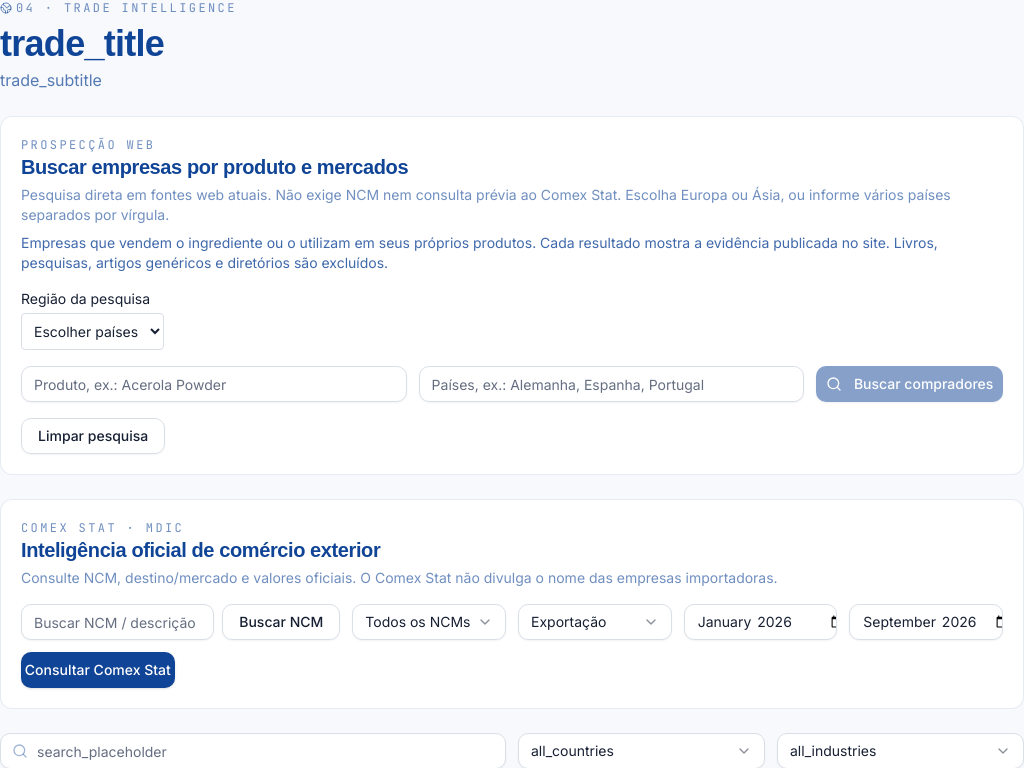
Test case: clear aborts pending single search and a late answer cannot overwrite the next search
In the field with placeholder "Produto, ex.: Acerola Powder": [214, 384] box [21,366,407,402], type "Acerola"
In the field with placeholder "Países, ex.: Alemanha, Espanha, Portugal": [611, 384] box [419,366,804,402], type "Portugal"
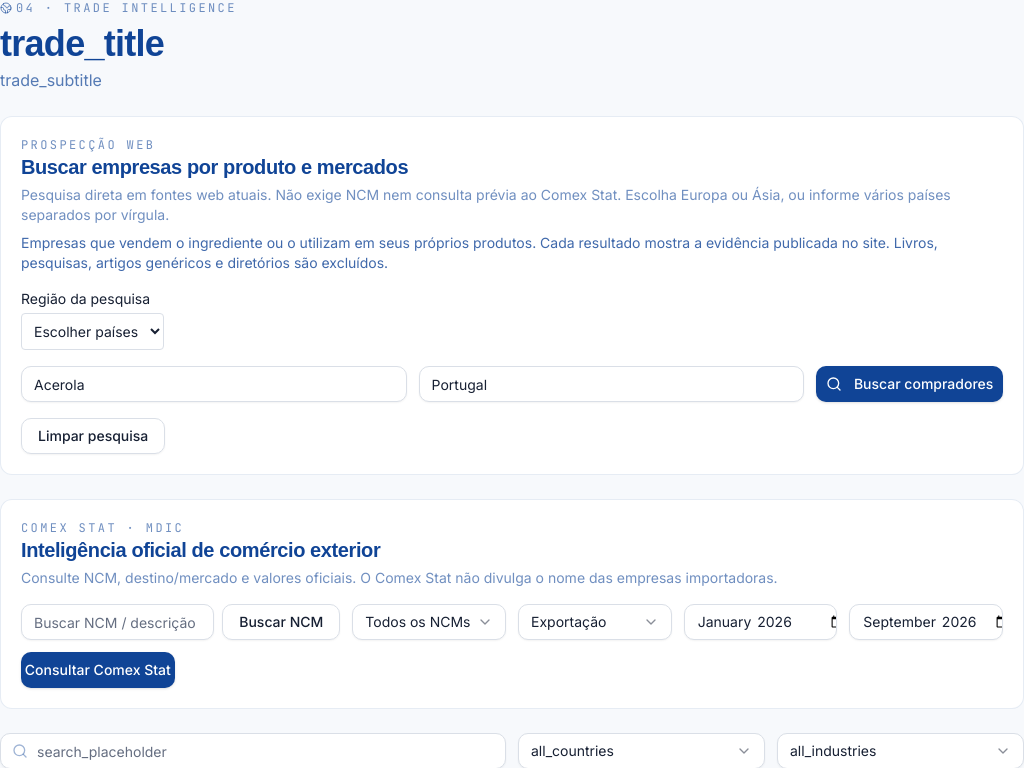
Click the button "Buscar compradores": [910, 384] box [816,366,1003,402]
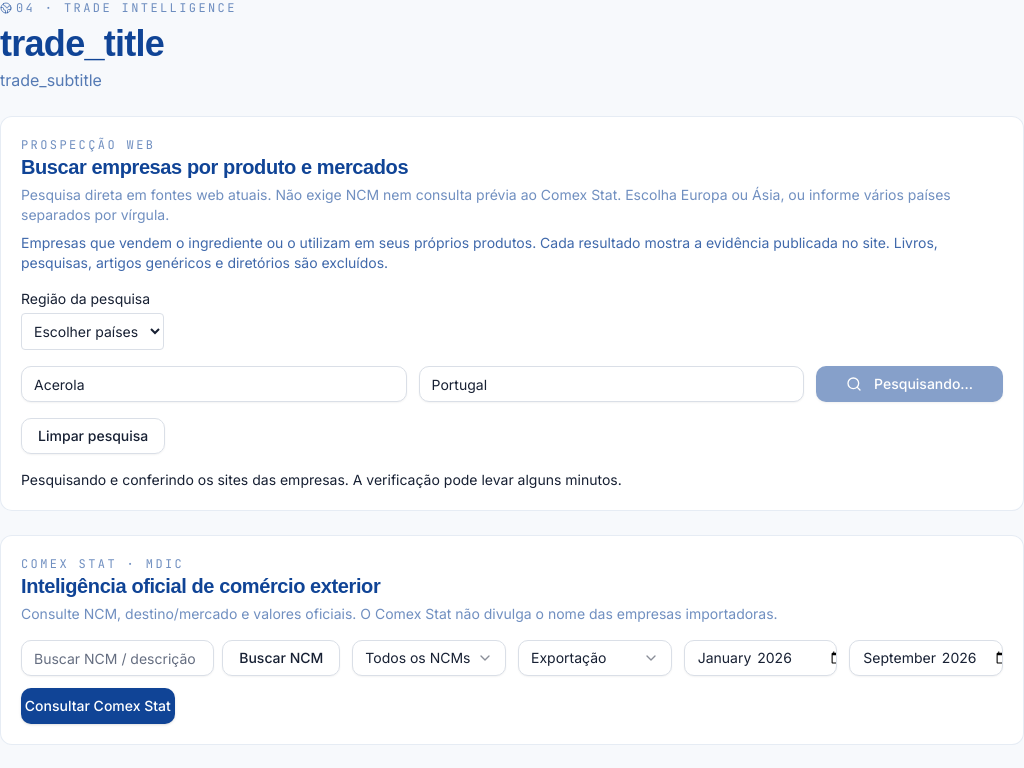
Click the button "Limpar pesquisa": [93, 436] box [21,418,165,454]
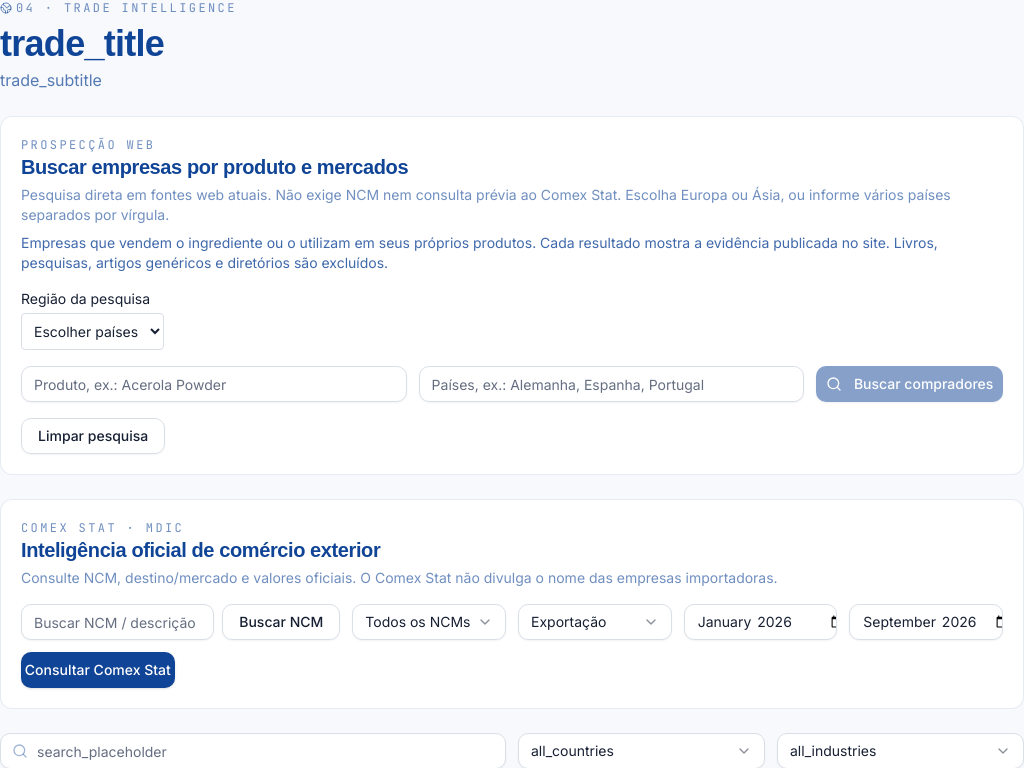
Expected: the field with placeholder "Produto, ex.: Acerola Powder" is empty
In the field with placeholder "Produto, ex.: Acerola Powder": [214, 384] box [21,366,407,402], type "Guarana"
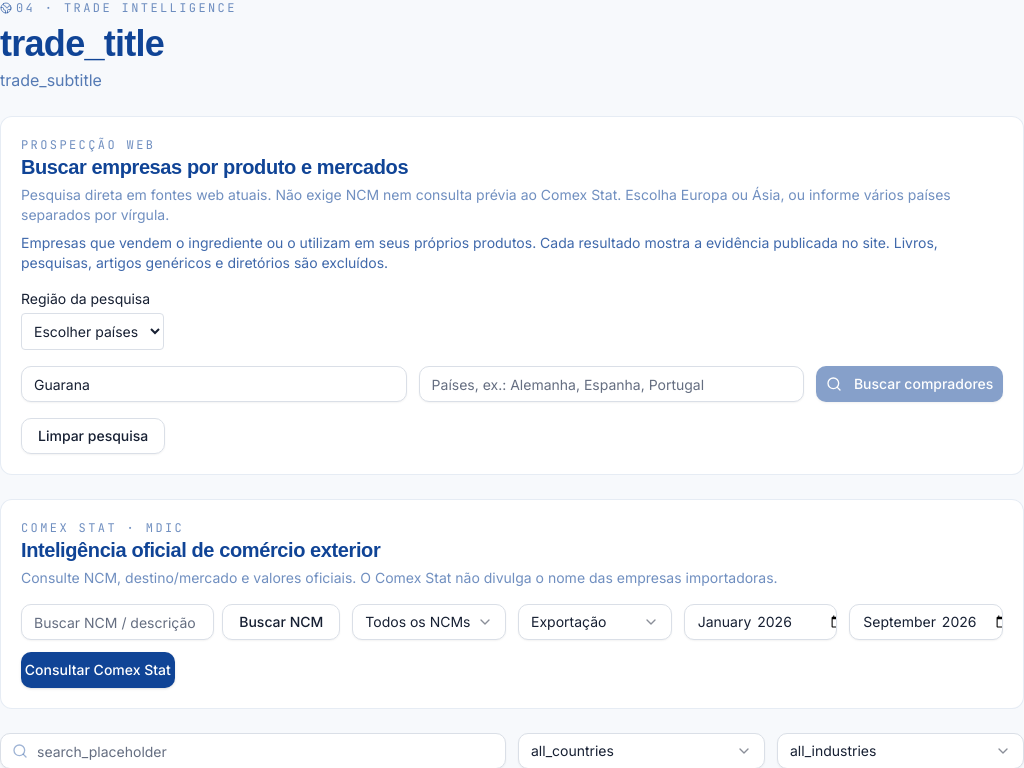
In the field with placeholder "Países, ex.: Alemanha, Espanha, Portugal": [611, 384] box [419,366,804,402], type "Espanha"
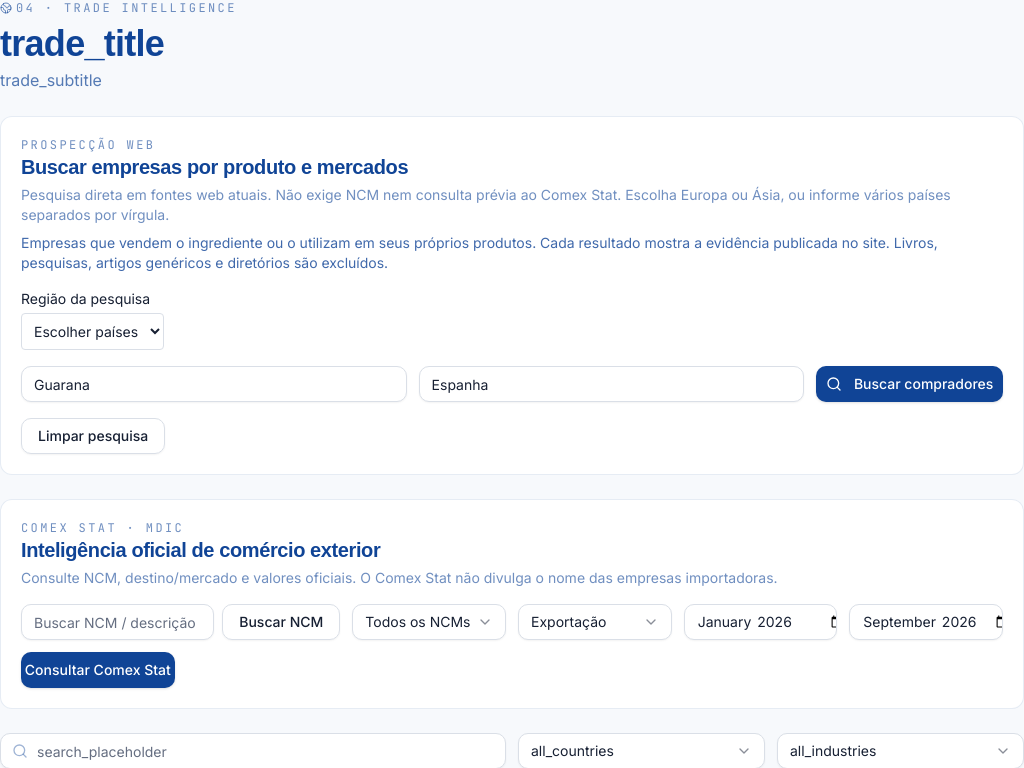
Click the button "Buscar compradores": [910, 384] box [816,366,1003,402]
(page scrolled)
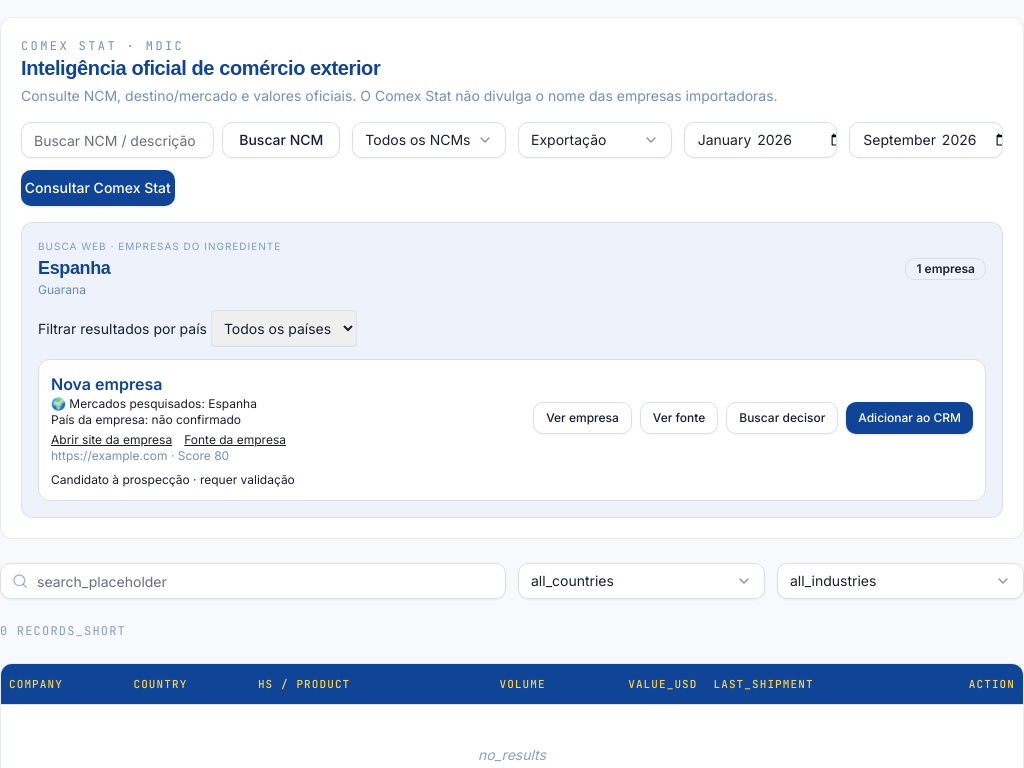
Expected: the text "Nova empresa" is shown, [51,374,162,394]
